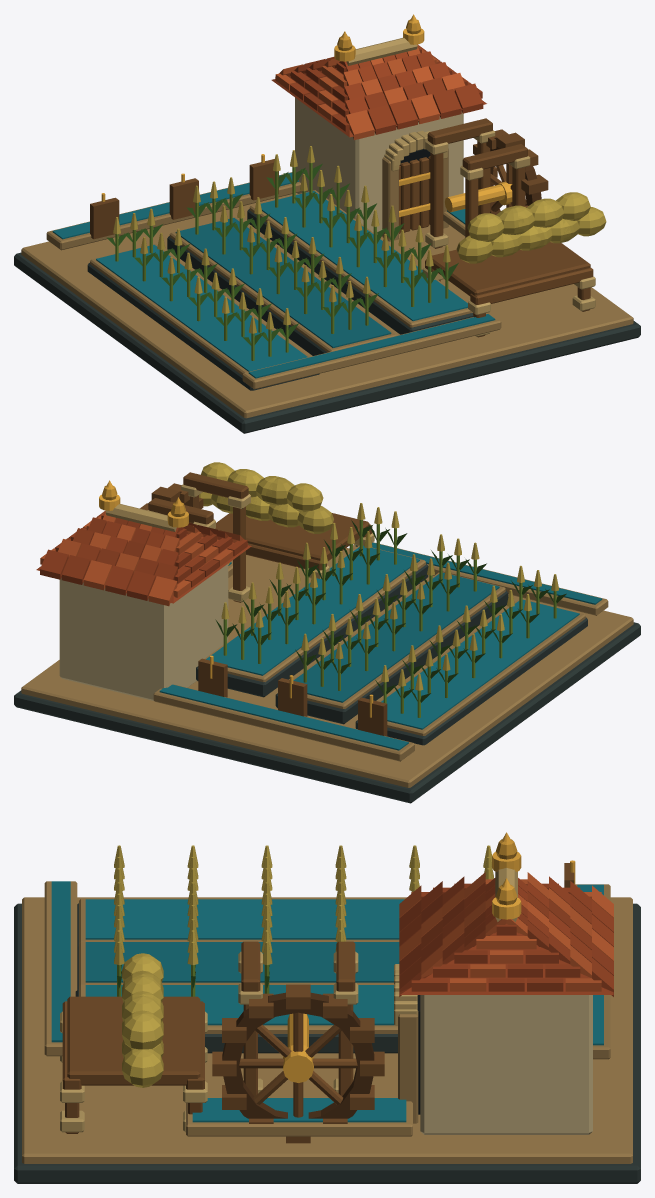
3 views of the same model, one above another, from view 1: azimuth 30°, elevation 25°; view 2: azimuth 150°, elevation 25°; view 3: azimuth 270°, elevation 25° (orthographic). The views are drawn at different scales.
Visible parts, largest first — view 1: farm_6_structure, farm_6_metal; view 2: farm_6_structure, farm_6_metal; view 3: farm_6_structure, farm_6_metal.
Boxes of the visible parts, x1=… form: farm_6_structure: x1=14, y1=19, x2=640, y2=433; farm_6_metal: x1=101, y1=14, x2=512, y2=217; farm_6_structure: x1=14, y1=462, x2=640, y2=803; farm_6_metal: x1=99, y1=480, x2=373, y2=717; farm_6_structure: x1=14, y1=839, x2=640, y2=1183; farm_6_metal: x1=283, y1=832, x2=575, y2=1082.
Bounding box in the file's own units: 5.6 × 2.65 × 5.46.
